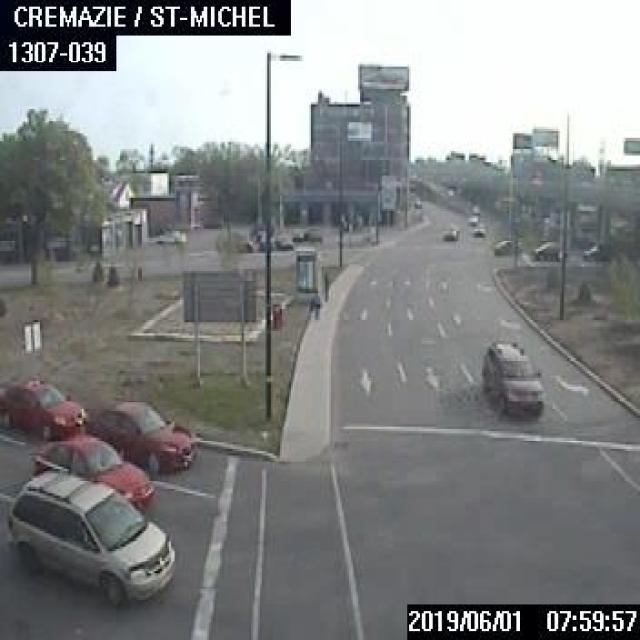vehicle: (6, 469, 174, 607), (31, 432, 152, 508), (84, 398, 194, 478), (0, 373, 84, 438), (480, 338, 544, 413), (532, 239, 566, 259), (491, 235, 522, 252), (154, 228, 186, 244), (582, 244, 608, 260), (274, 232, 292, 249), (442, 222, 458, 240), (471, 222, 484, 235), (412, 197, 421, 208)
